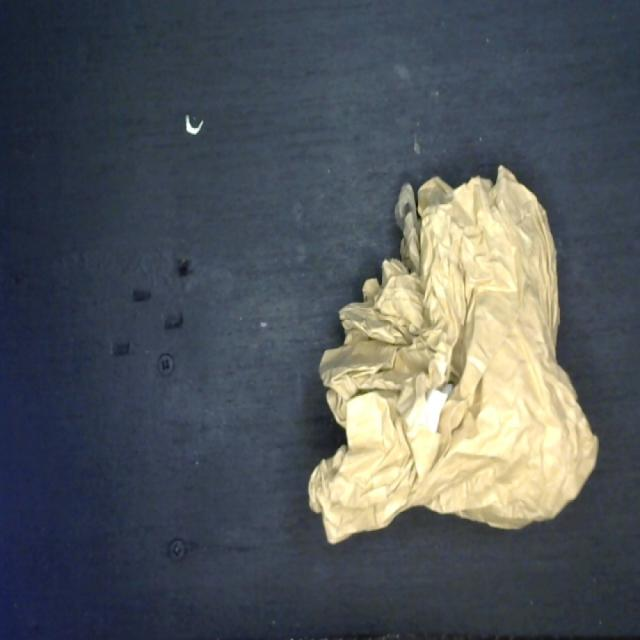biodegradable: (300, 155, 603, 552)
